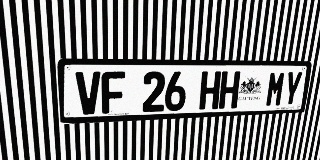2: (143, 71, 165, 112)
6: (164, 71, 187, 111)
F: (101, 71, 125, 114)
H: (218, 71, 241, 109), (199, 71, 221, 110)
M: (265, 71, 287, 107)
V: (75, 71, 101, 115)
Y: (282, 71, 303, 106)
